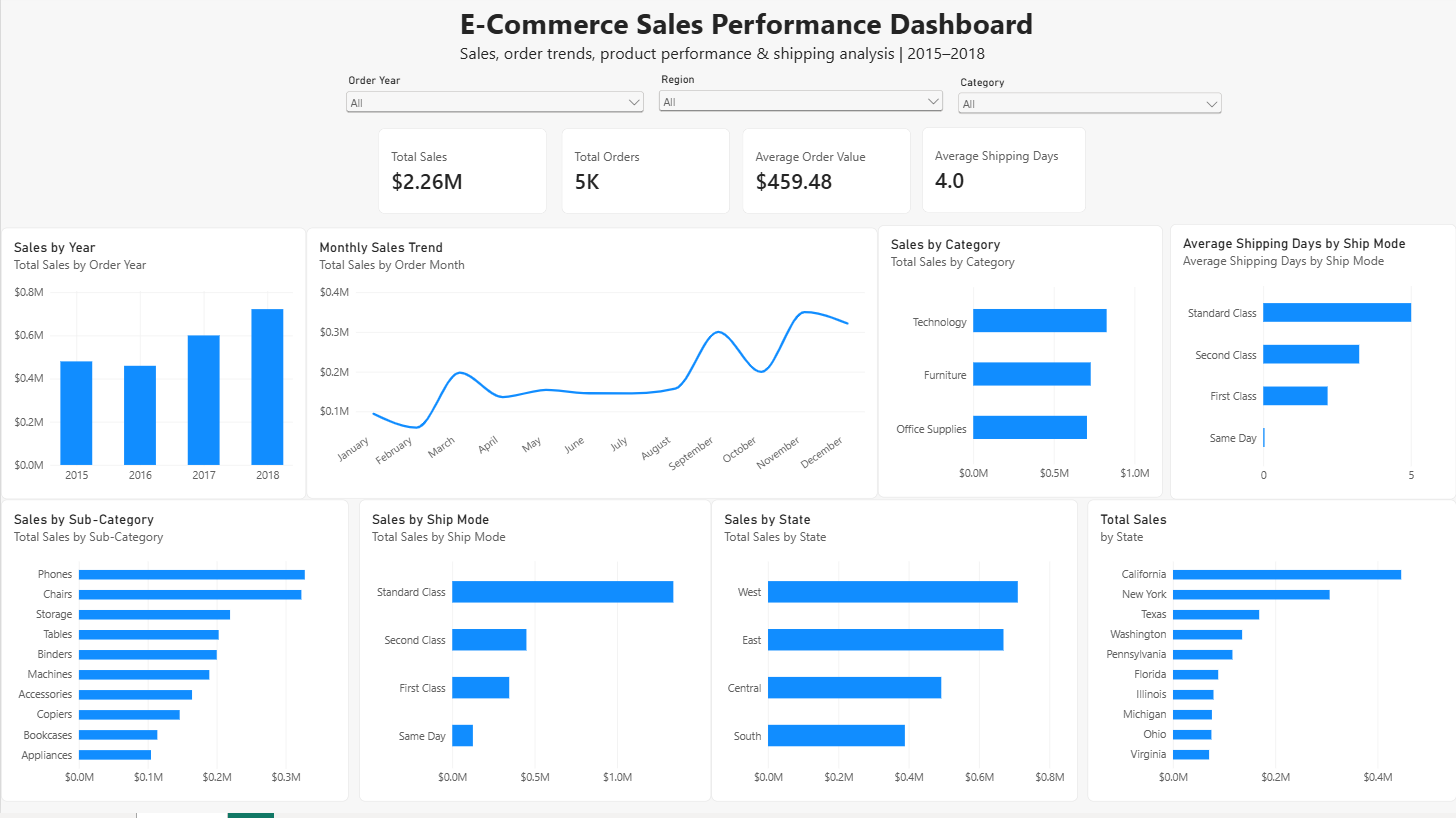

Layout of this report page (visuals, bound fields, positions):
{"tool":"powerbi","page":{"name":"Page 1","canvas":[2048,1536],"ordinal":0},"visuals":[{"type":"clusteredColumnChart","title":"Sales by Year","fields":{"Category":["train.Order Year"],"Y":["train.Total Sales"]},"box":[15.7,361.6,386.3,357.1],"z":0},{"type":"lineChart","title":"Monthly Sales Trend","fields":{"Category":["train.Order Month"],"Y":["train.Total Sales"]},"box":[417.8,359.4,765.9,357.1],"z":1000},{"type":"clusteredBarChart","title":"Sales by Category","fields":{"Category":["train.Category"],"Y":["train.Total Sales"]},"box":[1199.5,354.9,375.1,359.4],"z":2000},{"type":"clusteredBarChart","title":"Sales by Sub-Category","fields":{"Category":["train.Sub-Category"],"Y":["train.Total Sales"]},"box":[15.7,736.7,500.9,397.6],"z":3000},{"type":"clusteredBarChart","title":"Average Shipping Days by Ship Mode","fields":{"Category":["train.Ship Mode"],"Y":["train.Average Shipping Days"]},"box":[1581.3,348.2,447,363.9],"z":4000},{"type":"clusteredBarChart","title":"Sales by Ship Mode","fields":{"Category":["train.Ship Mode"],"Y":["train.Total Sales"]},"box":[534.6,736.7,505.4,397.6],"z":5000},{"type":"clusteredBarChart","title":"Sales by State","fields":{"Category":["train.Region"],"Y":["train.Total Sales"]},"box":[1049,736.7,482.9,397.6],"z":6000},{"type":"clusteredBarChart","fields":{"Category":["train.State"],"Y":["train.Total Sales"]},"box":[1540.9,734.5,487.4,397.6],"z":7000},{"type":"slicer","fields":{"Values":["train.Order Year"]},"box":[417.8,139.3,402.4,92.9],"z":8000},{"type":"slicer","fields":{"Values":["train.Region"]},"box":[846.8,146,384.6,83.9],"z":9000},{"type":"slicer","fields":{"Values":["train.Category"]},"box":[1257.9,139.3,357,88.7],"z":10000},{"type":"textbox","box":[417.8,11.2,1163.5,112.3],"z":11000},{"type":"cardVisual","fields":{"Data":["train.Total Sales"]},"box":[208.9,233.6,319,112],"z":12000},{"type":"cardVisual","fields":{"Data":["train.Total Orders"]},"box":[554.8,231.4,330.2,112.3],"z":13000},{"type":"cardVisual","fields":{"Data":["train.Average Order Value"]},"box":[911.9,231.4,345.9,114.6],"z":14000},{"type":"cardVisual","fields":{"Data":["train.Average Shipping Days"]},"box":[1289.3,233.6,359.4,112.3],"z":15000},{"type":"textbox","box":[22.5,1179.2,2005.8,332.4],"z":15001}]}

Visuals, with their boxes on the page's 2048x1536 design canvas (x1, y1, x2, y2). These are canvas units, not pixel positions in the 1456x818 screenshot, which may show the page scaled, cropped or inside an application window:
"Sales by Year" clusteredColumnChart: [left=16, top=362, right=402, bottom=719]
"Monthly Sales Trend" lineChart: [left=418, top=359, right=1184, bottom=716]
"Sales by Category" clusteredBarChart: [left=1200, top=355, right=1575, bottom=714]
"Sales by Sub-Category" clusteredBarChart: [left=16, top=737, right=517, bottom=1134]
"Average Shipping Days by Ship Mode" clusteredBarChart: [left=1581, top=348, right=2028, bottom=712]
"Sales by Ship Mode" clusteredBarChart: [left=535, top=737, right=1040, bottom=1134]
"Sales by State" clusteredBarChart: [left=1049, top=737, right=1532, bottom=1134]
clusteredBarChart - train.State x train.Total Sales: [left=1541, top=734, right=2028, bottom=1132]
slicer - train.Order Year: [left=418, top=139, right=820, bottom=232]
slicer - train.Region: [left=847, top=146, right=1231, bottom=230]
slicer - train.Category: [left=1258, top=139, right=1615, bottom=228]
textbox: [left=418, top=11, right=1581, bottom=124]
cardVisual - train.Total Sales: [left=209, top=234, right=528, bottom=346]
cardVisual - train.Total Orders: [left=555, top=231, right=885, bottom=344]
cardVisual - train.Average Order Value: [left=912, top=231, right=1258, bottom=346]
cardVisual - train.Average Shipping Days: [left=1289, top=234, right=1649, bottom=346]
textbox: [left=22, top=1179, right=2028, bottom=1512]
